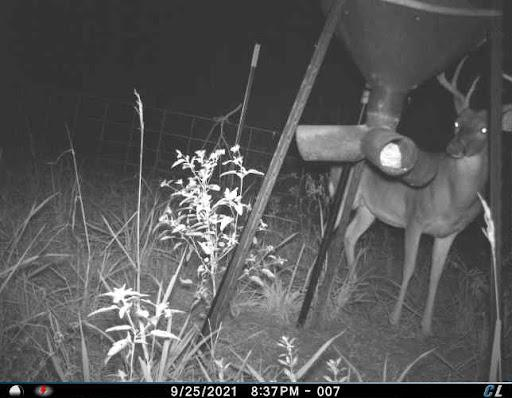Deer: (331, 53, 512, 334)
